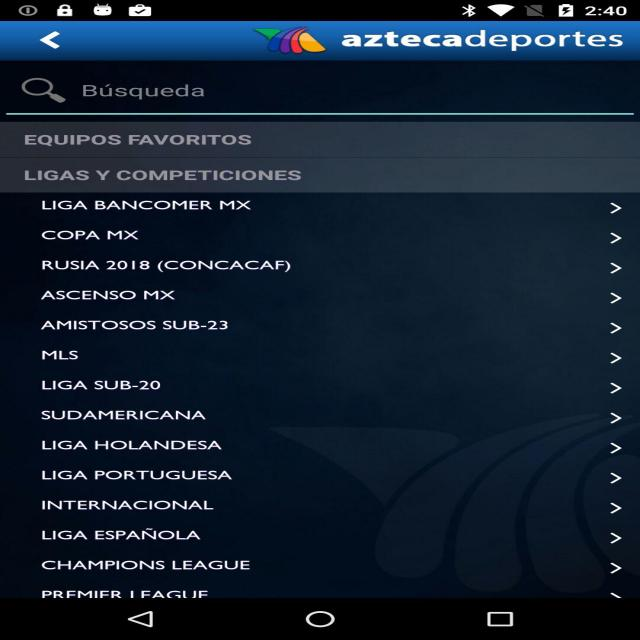icon: (12, 70, 72, 110), (24, 24, 80, 60), (603, 403, 636, 431), (598, 555, 640, 575), (598, 494, 640, 513), (602, 530, 638, 551), (602, 467, 640, 485), (607, 316, 635, 338), (607, 439, 639, 458), (598, 200, 633, 214), (602, 386, 628, 402), (602, 226, 624, 244), (607, 350, 631, 365), (605, 586, 631, 599), (612, 288, 628, 307), (607, 265, 623, 279)
image: (0, 22, 640, 59)
text: (335, 22, 637, 51), (18, 161, 323, 188), (26, 461, 282, 488), (27, 518, 228, 548), (32, 434, 264, 458), (38, 404, 250, 430), (80, 80, 364, 99), (28, 343, 246, 364), (34, 285, 238, 307), (40, 556, 282, 574), (24, 258, 323, 272), (36, 373, 196, 398), (13, 133, 270, 148), (36, 496, 242, 514), (32, 320, 268, 334), (40, 585, 218, 603), (32, 201, 260, 215), (34, 218, 147, 246)
